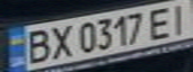0: (75, 19, 96, 53)
1: (109, 11, 130, 47)
3: (93, 16, 115, 51)
7: (124, 9, 148, 44)
B: (18, 26, 54, 65)
E: (145, 3, 178, 39)
I: (163, 0, 193, 35)
X: (45, 21, 75, 61)
